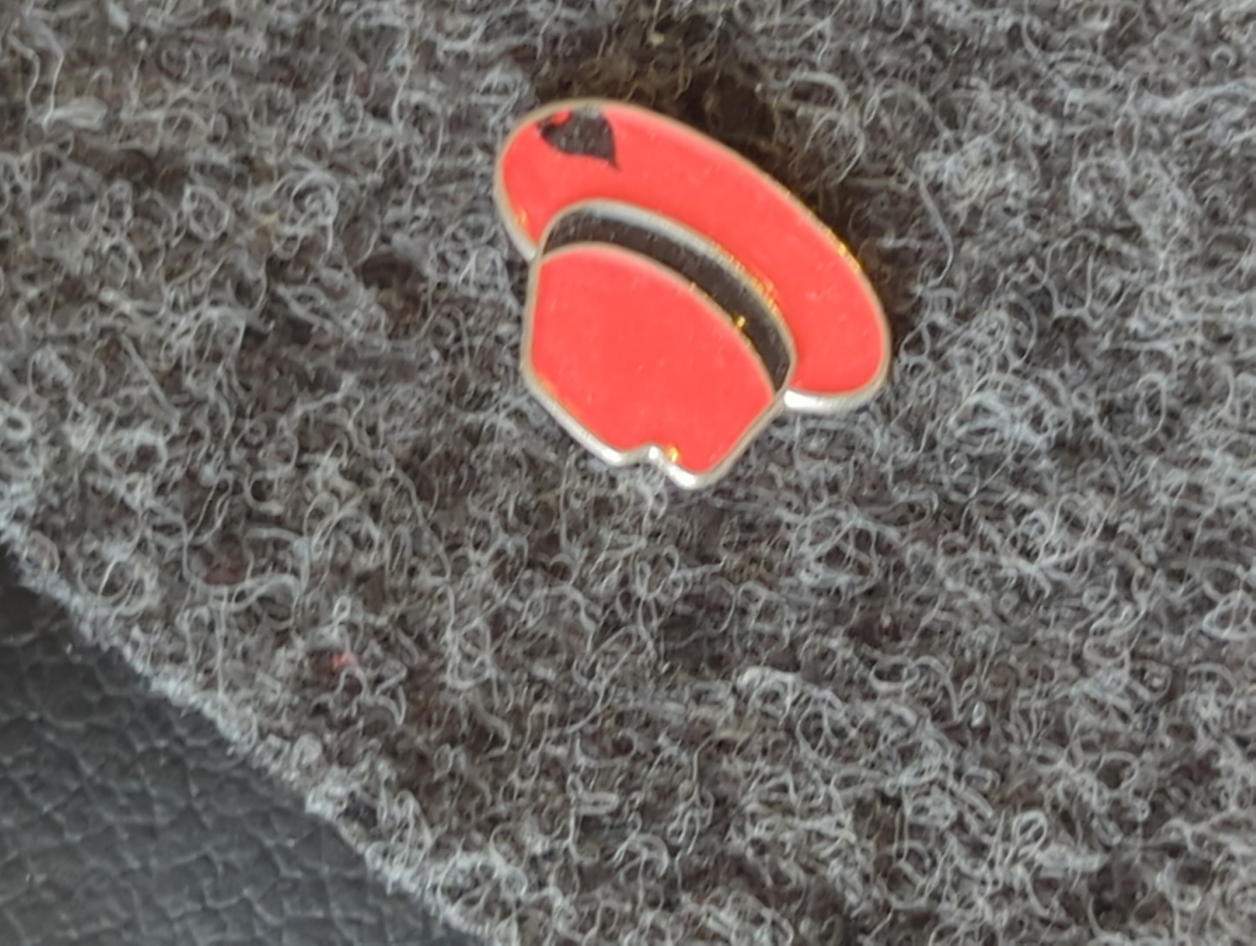Red-Hat: (385, 36, 1024, 594)
Scratch: (508, 63, 652, 204)
